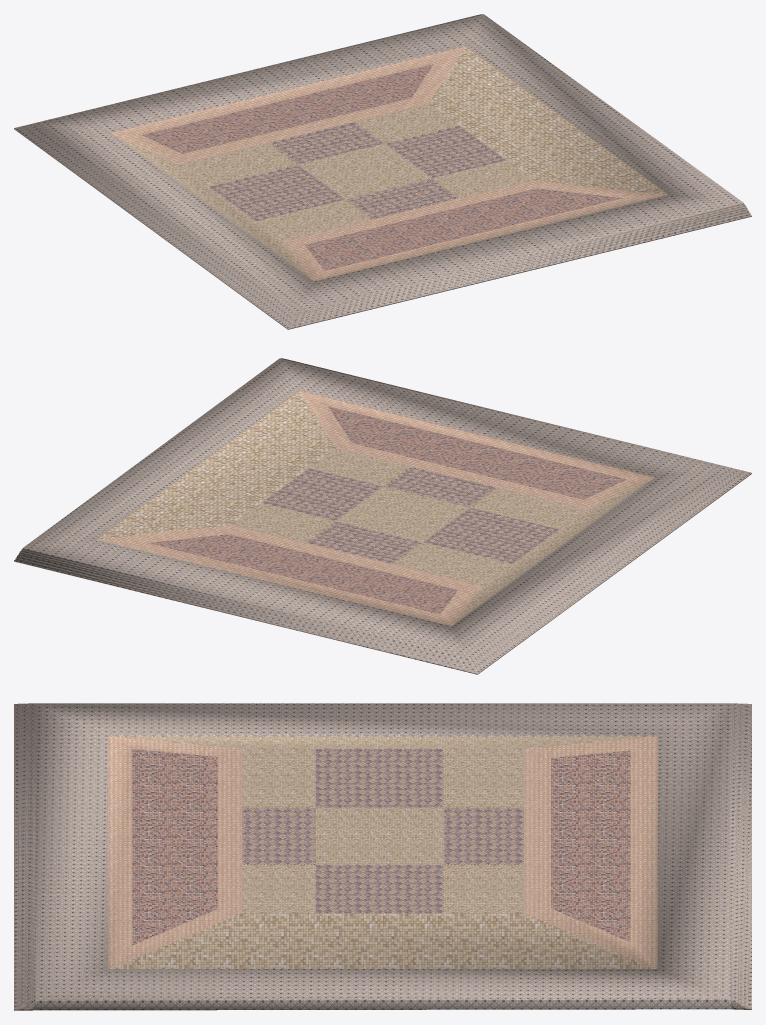
The picture shows the model from 3 angles, top to bottom: view 1: azimuth 30°, elevation 25°; view 2: azimuth 150°, elevation 25°; view 3: azimuth 270°, elevation 25°; orthographic projection. The views are drawn at different scales.
Visible parts, largest first — view 1: Unassigned; view 2: Unassigned; view 3: Unassigned.
Part boxes in pixels (<box>): Unassigned: <box>14,14,751,329</box>; Unassigned: <box>14,358,751,674</box>; Unassigned: <box>14,703,751,1010</box>.
Bounding box in the file's own units: 3148 × 51.58 × 3220.
